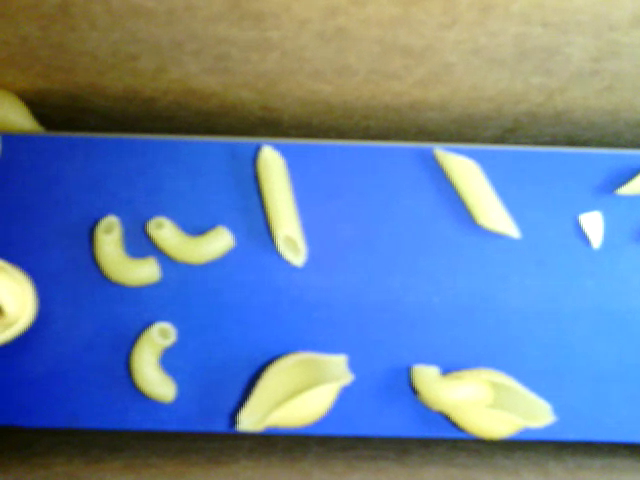elbow: (91, 213, 161, 286), (143, 214, 234, 265), (127, 320, 180, 404), (405, 367, 496, 410)
penne: (431, 148, 520, 237), (254, 139, 310, 268)
shell: (412, 362, 559, 439), (232, 348, 357, 433), (1, 91, 48, 132)
tortellini: (1, 260, 39, 352)
